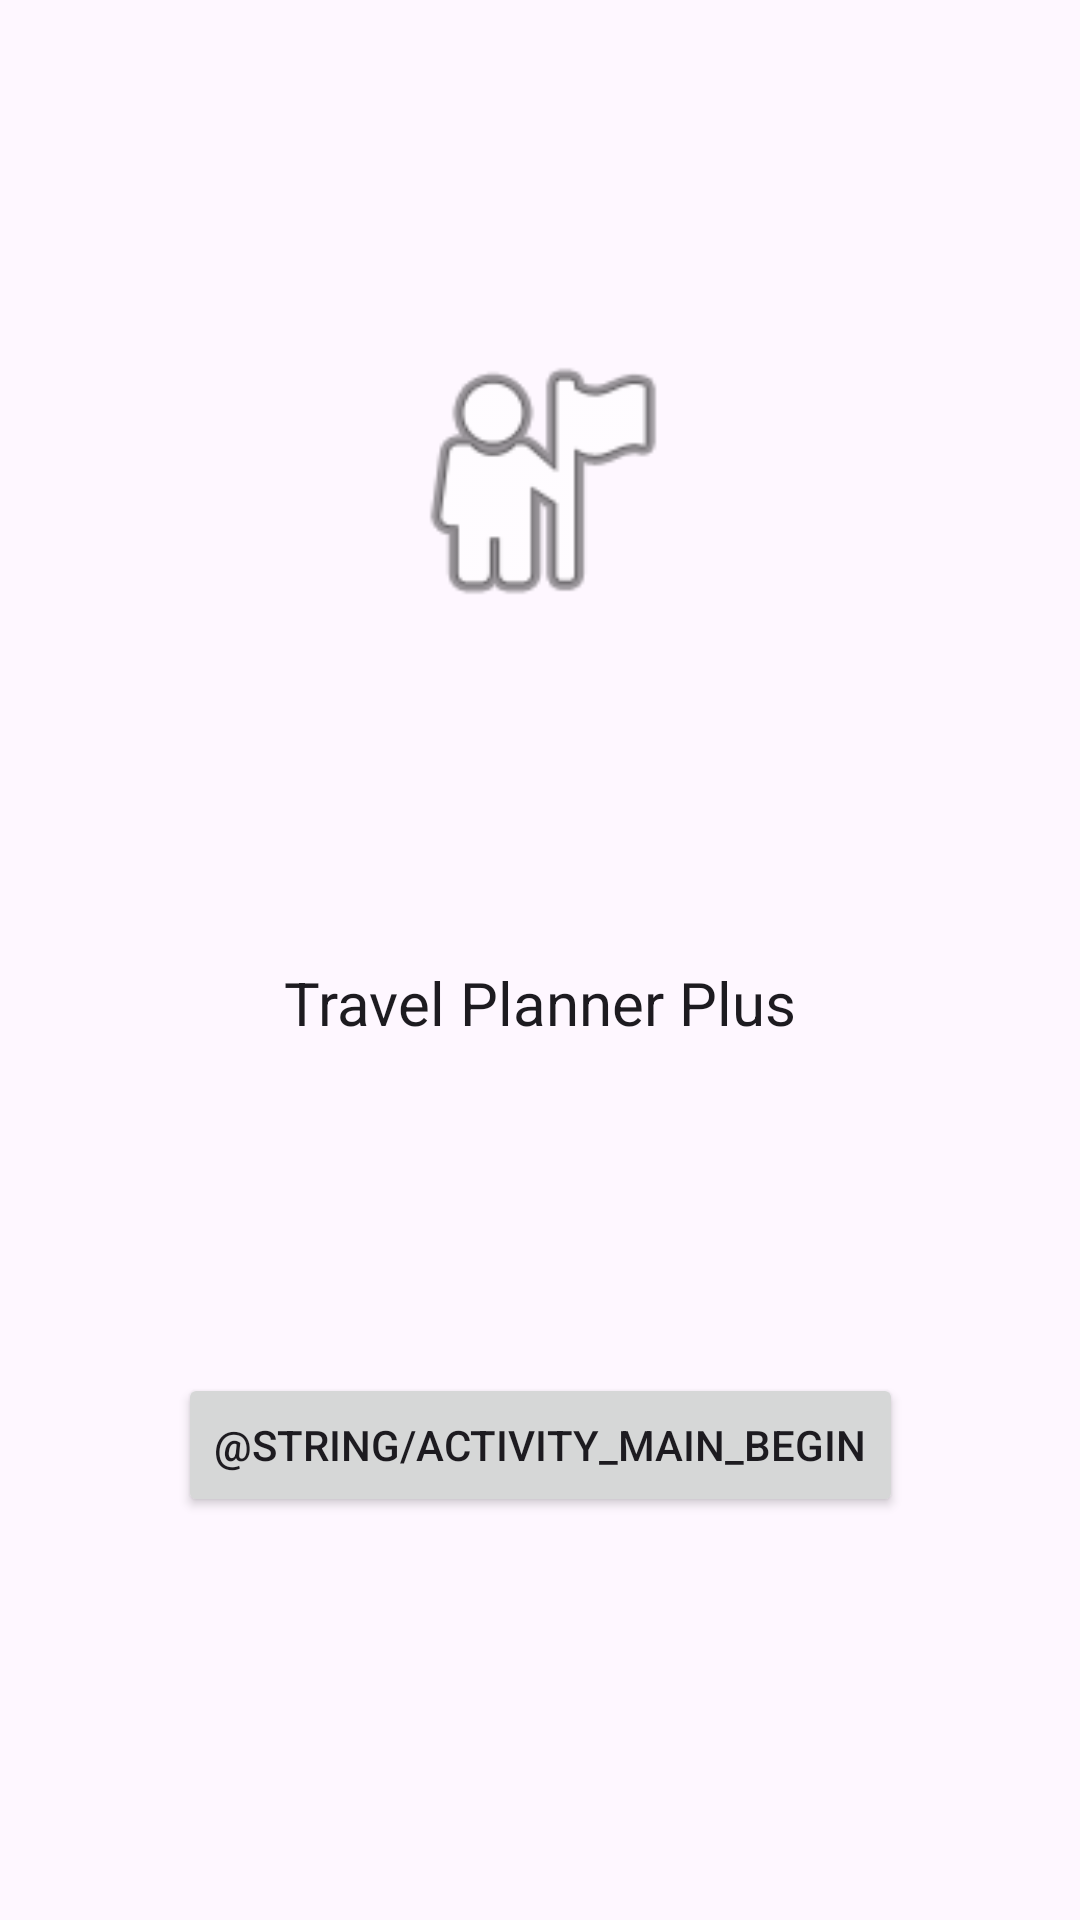

Named icons in this screenshot (1080px x 1920px) and their centers, point (x, y):
myplaces: point (543, 481)
